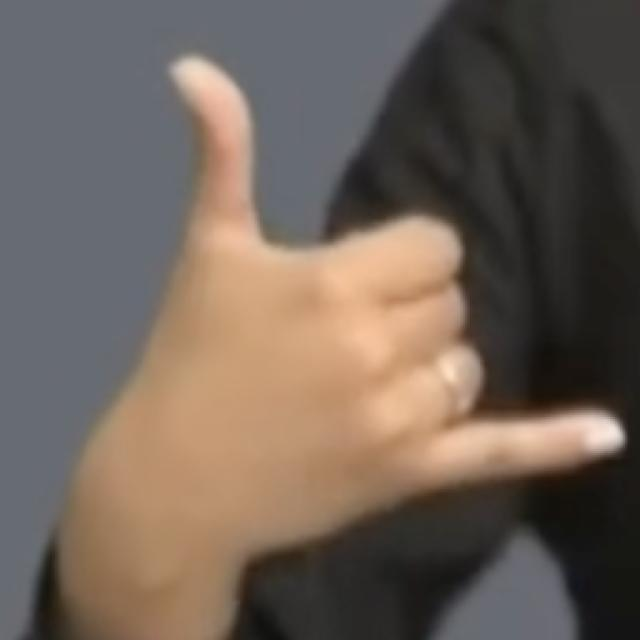Y: (41, 43, 632, 598)
